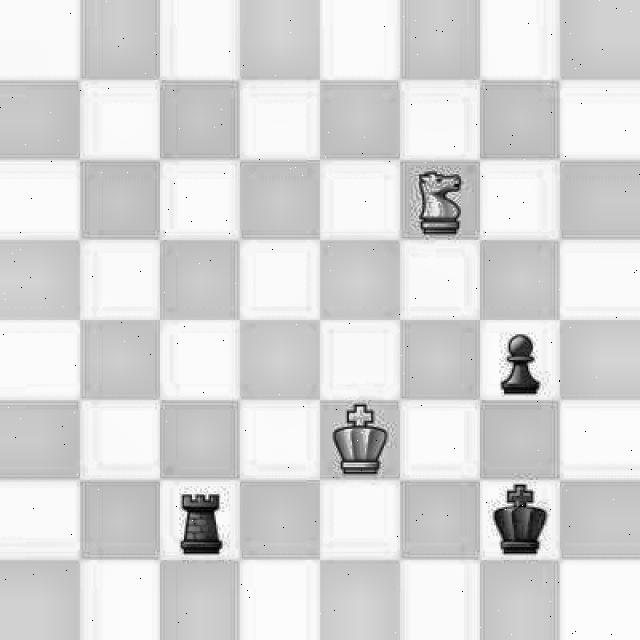black king: (482, 485, 560, 563)
black pawn: (485, 323, 555, 397)
black rook: (162, 482, 236, 558)
white king: (322, 402, 396, 479)
whiteknight: (406, 163, 471, 241)
